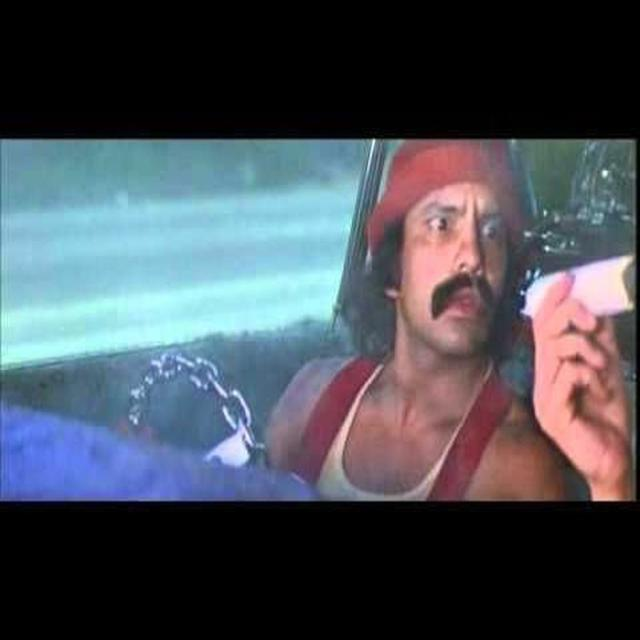smoking: (373, 142, 632, 378)
